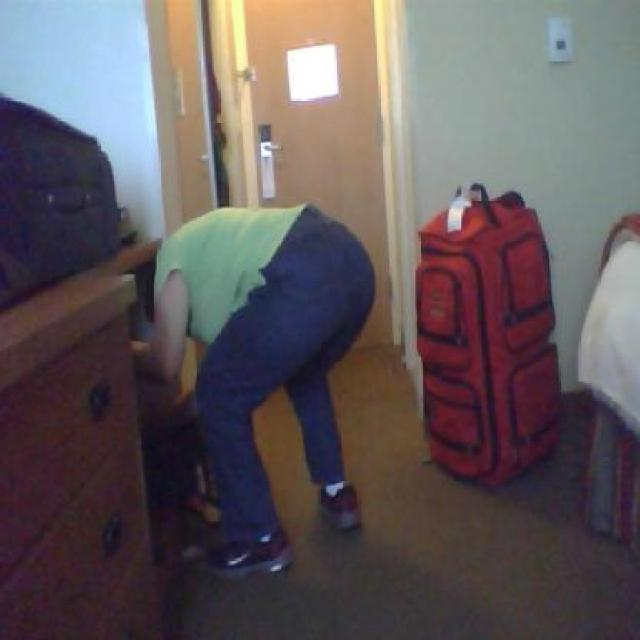backpack: (412, 175, 566, 491)
